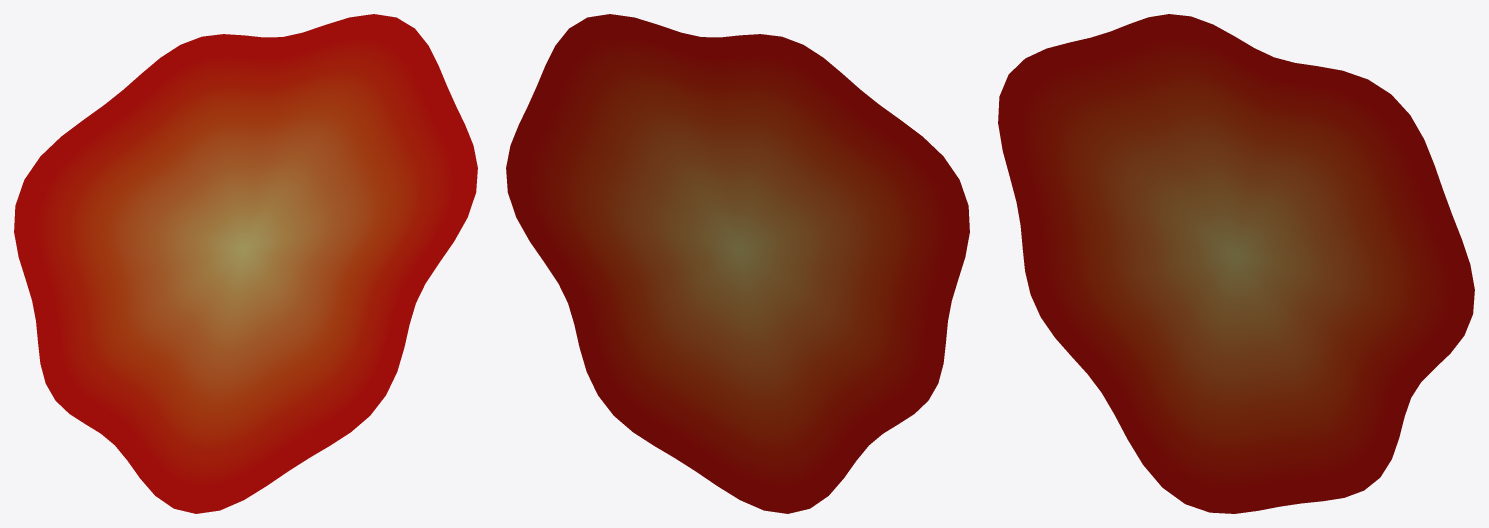
Rendered from Dawn_ExplosionGlow.fbx.
The picture shows the model from 3 angles, left to right: view 1: azimuth 30°, elevation 25°; view 2: azimuth 150°, elevation 25°; view 3: azimuth 330°, elevation 25°; orthographic projection. The views are drawn at different scales.
Visible parts, largest first — view 1: Dawn_ExplosionGlow; view 2: Dawn_ExplosionGlow; view 3: Dawn_ExplosionGlow.
Boxes of the visible parts, <box> form: Dawn_ExplosionGlow: <box>14,14,477,513</box>; Dawn_ExplosionGlow: <box>506,14,969,513</box>; Dawn_ExplosionGlow: <box>998,14,1474,513</box>.
Bounding box in the file's own units: 209 × 206 × 3.35e-05.
